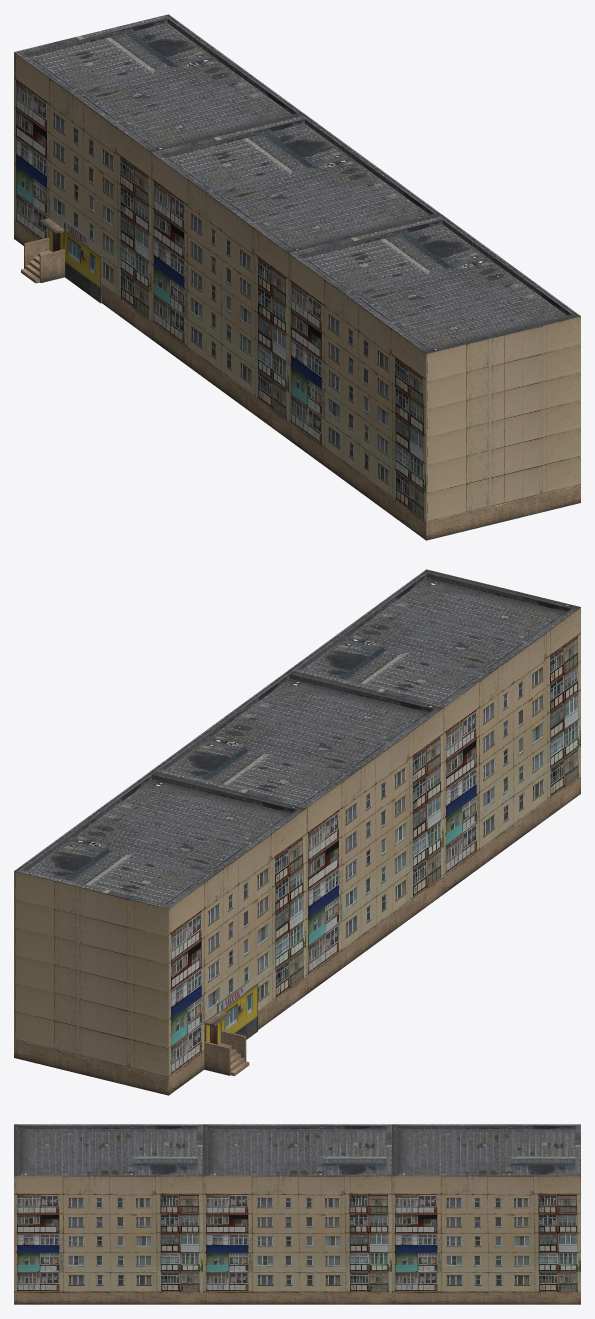
Rendered from r402_ishim_dom10.FBX.
3 renders of one model, top to bottom at view 1: azimuth 30°, elevation 25°; view 2: azimuth 150°, elevation 25°; view 3: azimuth 270°, elevation 25°, orthographic. The views are drawn at different scales.
Visible parts, largest first — view 1: r402_ishim_dom102, r402_ishim_dom10, r402_ishim_dom101; view 2: r402_ishim_dom10, r402_ishim_dom101, r402_ishim_dom102; view 3: r402_ishim_dom10, r402_ishim_dom101, r402_ishim_dom102.
Part boxes in pixels (<box>): r402_ishim_dom102: <box>289,215,580,540</box>; r402_ishim_dom10: <box>14,14,305,338</box>; r402_ishim_dom101: <box>151,115,443,439</box>; r402_ishim_dom10: <box>14,770,305,1095</box>; r402_ishim_dom101: <box>151,670,443,994</box>; r402_ishim_dom102: <box>289,569,580,893</box>; r402_ishim_dom10: <box>392,1124,580,1304</box>; r402_ishim_dom101: <box>203,1124,391,1304</box>; r402_ishim_dom102: <box>14,1124,202,1304</box>.
Bounding box in the file's own units: 15.47 × 60 × 15.
